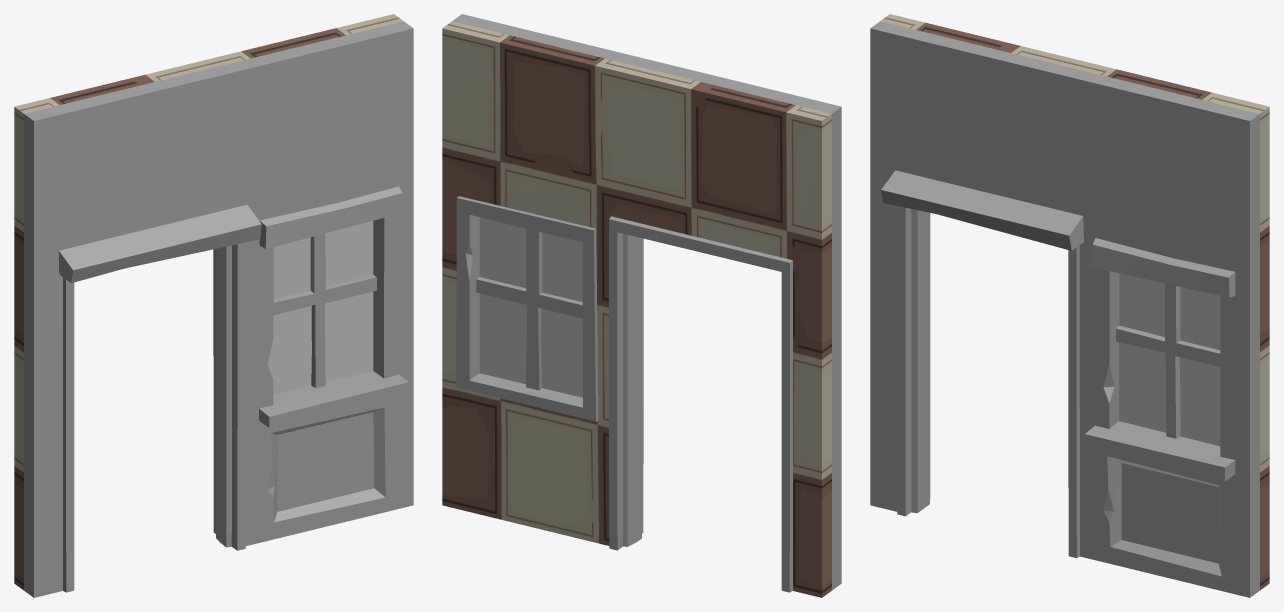
Rendered from SM_Bld_ShopFront_06.fbx.
3 renders of one model, left to right at view 1: azimuth 30°, elevation 25°; view 2: azimuth 150°, elevation 25°; view 3: azimuth 330°, elevation 25°, orthographic.
Parts seen in each view (by area): view 1: SM_Bld_ShopFront_06, SM_Bld_ShopFront_06_Glass; view 2: SM_Bld_ShopFront_06, SM_Bld_ShopFront_06_Glass; view 3: SM_Bld_ShopFront_06, SM_Bld_ShopFront_06_Glass.
Boxes of the visible parts, <box> form: SM_Bld_ShopFront_06: <box>14,14,413,597</box>; SM_Bld_ShopFront_06_Glass: <box>267,221,373,394</box>; SM_Bld_ShopFront_06: <box>442,14,841,597</box>; SM_Bld_ShopFront_06_Glass: <box>479,217,582,397</box>; SM_Bld_ShopFront_06: <box>870,14,1269,597</box>; SM_Bld_ShopFront_06_Glass: <box>1119,273,1220,446</box>.
Bounding box in the file's own units: 250 × 300 × 42.08.
